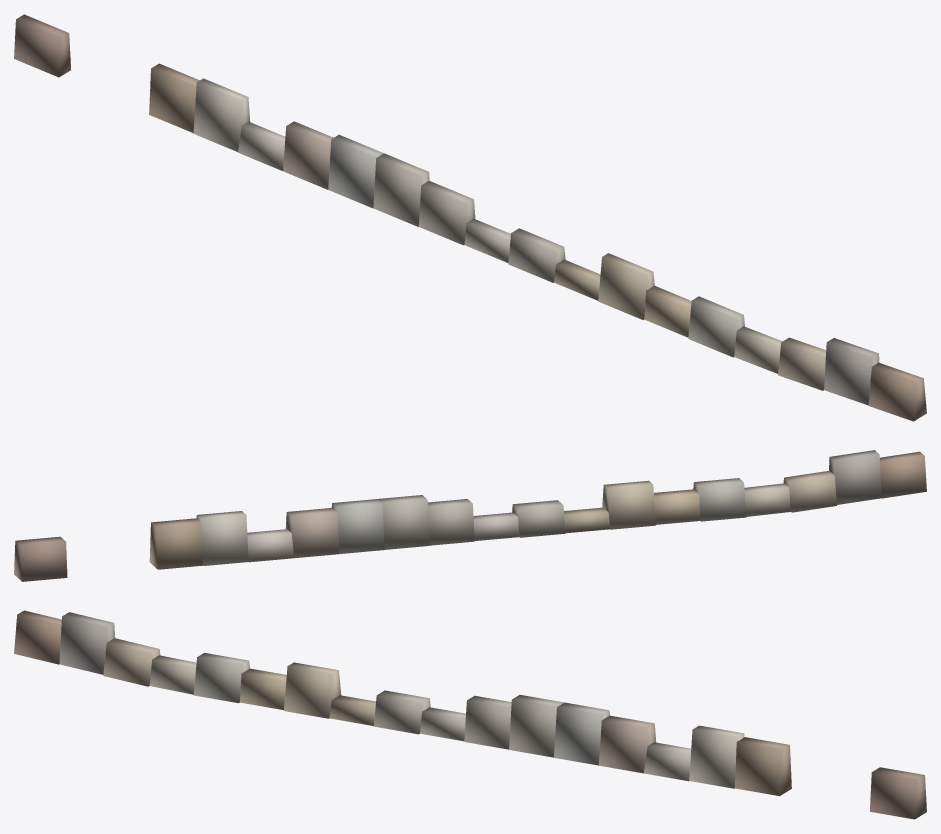
The model's file is farm_-31_-27_collision.glb.
The picture shows the model from 3 angles, top to bottom: view 1: azimuth 90°, elevation 25°; view 2: azimuth 150°, elevation 25°; view 3: azimuth 270°, elevation 25°; orthographic projection. The views are drawn at different scales.
Visible parts, largest first — view 1: geometry_0; view 2: geometry_0; view 3: geometry_0.
Boxes of the visible parts, bbox=[...] form: geometry_0: bbox=[14, 14, 926, 421]; geometry_0: bbox=[14, 450, 926, 581]; geometry_0: bbox=[14, 610, 926, 819].
Bounding box in the file's own units: 18.36 × 4.3 × 26.05.
